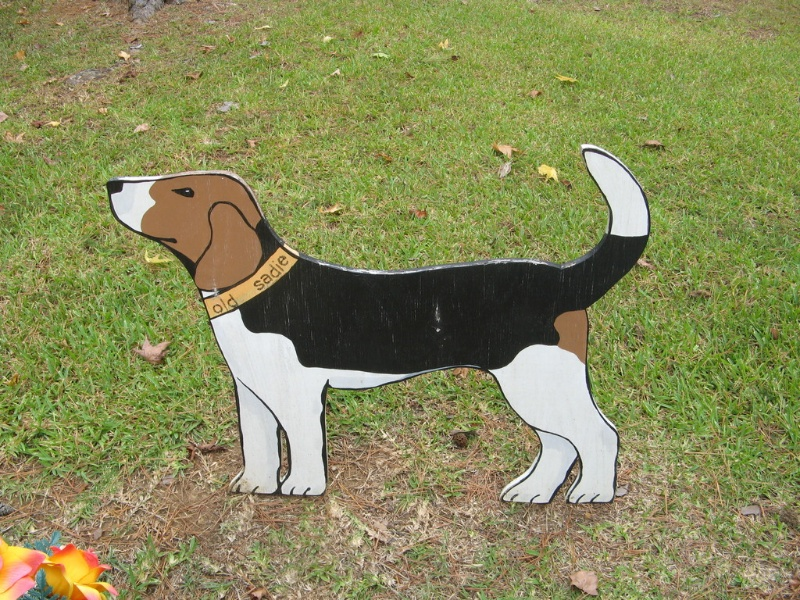dog: (95, 144, 650, 510)
